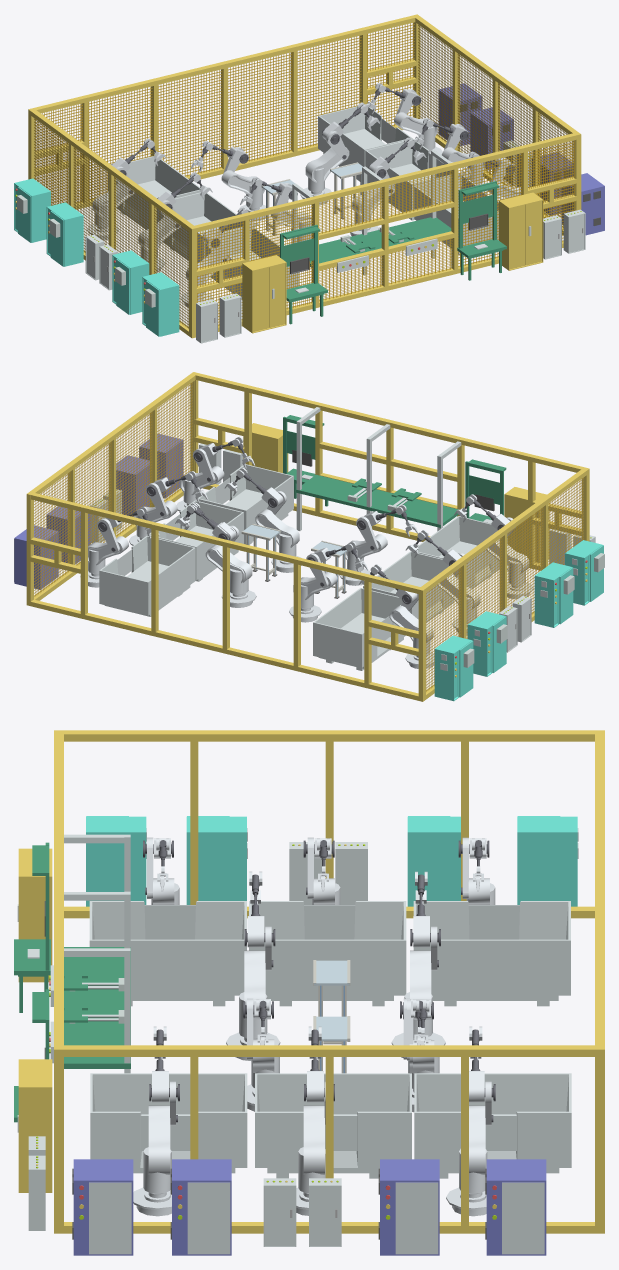
File: polishin.glb
3 renders of one model, top to bottom at view 1: azimuth 30°, elevation 25°; view 2: azimuth 150°, elevation 25°; view 3: azimuth 270°, elevation 25°, orthographic. The views are drawn at different scales.
Parts seen in each view (by area): view 1: 平面.12, 立方体 (×26), 平面 (×8), 立方体.2 (×14), 立方体.1 (×7), 立方体.3 (×5), 空白.27, 空白.21, 平面.1, 空白.26, 空白.23, 立方体.4 (×4) (+4 smaller); view 2: 立方体 (×24), 平面 (×8), 立方体.2 (×15), 立方体.1 (×6), 立方体.3 (×9), 空白.27, 空白.21, 空白.25, 空白.24, 空白.23, 空白.26, 立方体.4 (×4) (+1 smaller); view 3: 立方体 (×32), 立方体.1 (×6), 立方体.2 (×11), 空白.21, 空白.24, 空白.23, 空白.26, 空白.27, 空白.25, 立方体.7 (×2), 立方体.3 (×2), 立方体.6.
Part boxes in pixels (x1,y1,x2,y2): 平面.12: (35, 22, 574, 309); 立方体 (×26): (14, 14, 604, 342); 平面 (×8): (34, 25, 573, 328); 立方体.2 (×14): (28, 22, 585, 338); 立方体.1 (×7): (81, 34, 506, 301); 立方体.3 (×5): (18, 187, 563, 337); 空白.27: (318, 104, 412, 181); 空白.21: (108, 156, 200, 229); 平面.1: (197, 217, 260, 325); 空白.26: (365, 139, 459, 220); 空白.23: (157, 192, 242, 262); 立方体.4 (×4): (284, 195, 493, 266); 立方体 (×24): (14, 372, 602, 701); 平面 (×8): (34, 382, 583, 691); 立方体.2 (×15): (26, 404, 589, 701); 立方体.1 (×6): (80, 405, 535, 688); 立方体.3 (×9): (81, 484, 603, 697); 空白.27: (99, 536, 195, 616); 空白.21: (313, 588, 409, 670); 空白.25: (198, 464, 293, 544); 空白.24: (417, 516, 507, 588); 空白.23: (363, 551, 458, 622); 空白.26: (147, 500, 243, 581); 立方体.4 (×4): (286, 431, 499, 504); 立方体 (×32): (18, 730, 604, 1255); 立方体.1 (×6): (14, 939, 544, 1254); 立方体.2 (×11): (28, 735, 604, 1233); 空白.21: (413, 901, 570, 1006); 空白.24: (89, 901, 246, 1006); 空白.23: (249, 901, 406, 1006); 空白.26: (255, 1073, 411, 1178); 空白.27: (414, 1073, 571, 1178); 空白.25: (90, 1073, 247, 1173); 立方体.7 (×2): (314, 960, 349, 1041); 立方体.3 (×2): (341, 1222, 594, 1233); 立方体.6: (124, 948, 130, 1073).
Bounding box in the file's own units: 376 × 88.19 × 256.
18 materials, 1 textured.
